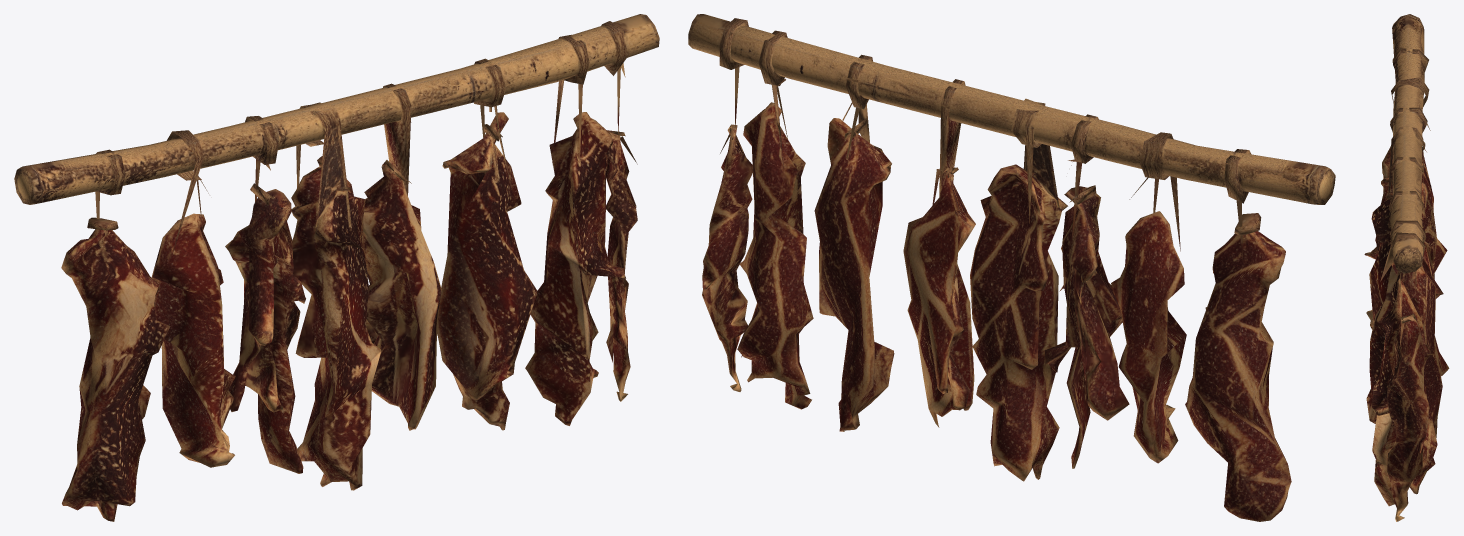
Rendered from Meshy_AI_Hanging_Jerky_Strips_20261028_texture.fbx.
The picture shows the model from 3 angles, left to right: view 1: azimuth 30°, elevation 25°; view 2: azimuth 150°, elevation 25°; view 3: azimuth 270°, elevation 25°; orthographic projection. The views are drawn at different scales.
Visible parts, largest first — view 1: Mesh_0; view 2: Mesh_0; view 3: Mesh_0.
Boxes of the visible parts, left/top/right/bottom form: Mesh_0: left=14, top=14, right=659, bottom=521; Mesh_0: left=688, top=14, right=1335, bottom=521; Mesh_0: left=1364, top=14, right=1449, bottom=521.
Size of the model in its own units: 96.04 by 56.54 by 14.6.
1 material, 1 textured.
